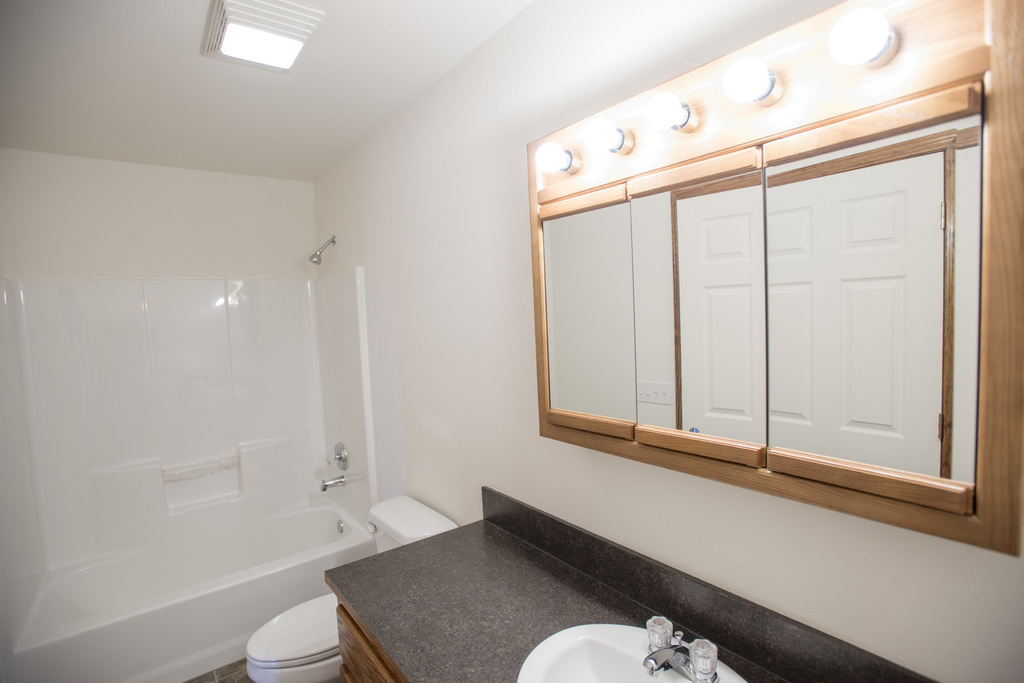tap: (650, 644, 687, 675), (313, 474, 346, 492)
